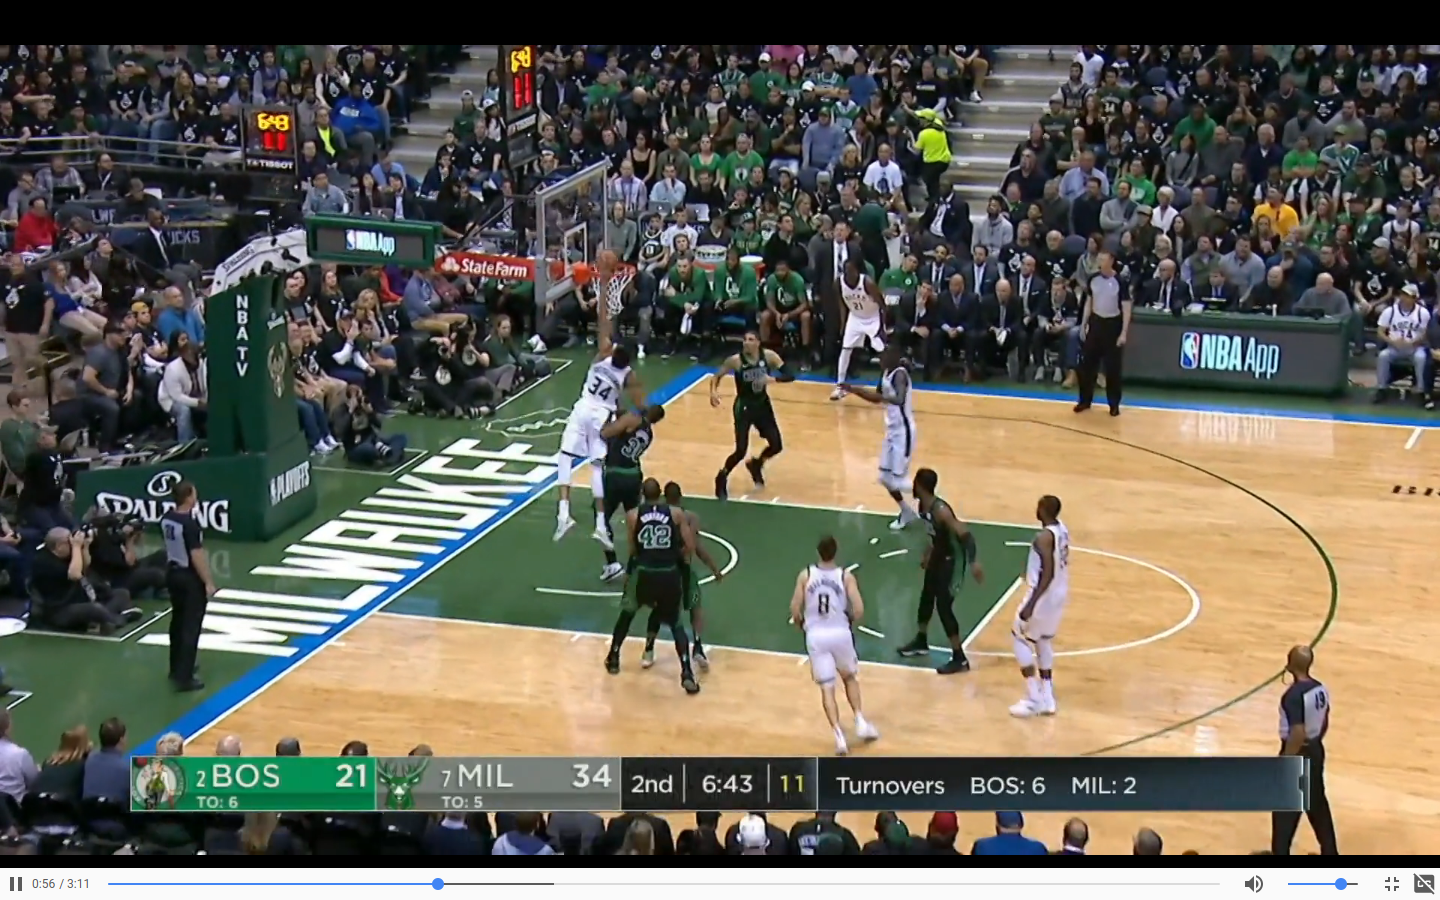basketball: (590, 242, 624, 283)
basketball player: (545, 292, 644, 559), (781, 531, 884, 762), (905, 460, 985, 680), (695, 332, 785, 503), (618, 477, 688, 696), (1007, 492, 1072, 728), (862, 349, 928, 539), (601, 383, 656, 565), (827, 266, 892, 413)
referee: (1265, 639, 1352, 857), (153, 474, 225, 699), (1073, 249, 1138, 419)
